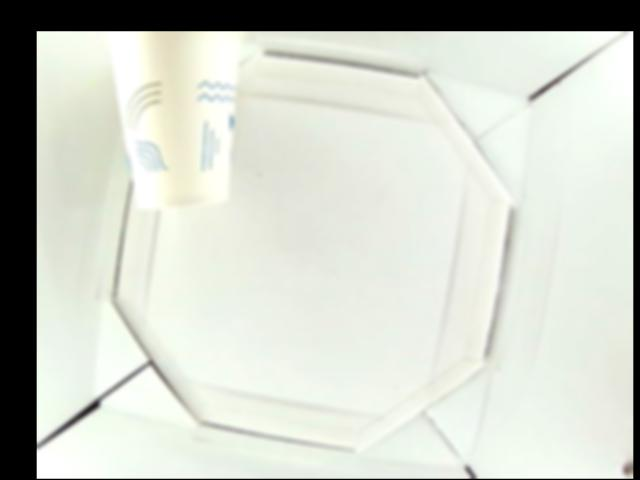Cup: (103, 32, 244, 212)
